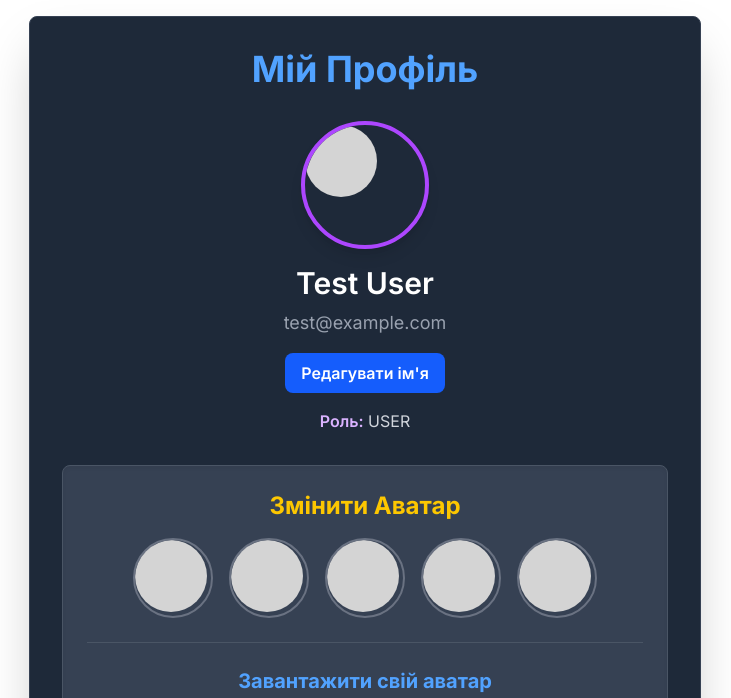
Test case: ProfilePage › handles name validation error (too short)
This screenshot has width=731, height=698.
Check: the heading "Test User" is shown, box x1=296 y1=265 x2=434 y2=301
Click the button "Редагувати ім'я" at (365, 373), box x1=285 y1=353 x2=445 y2=393
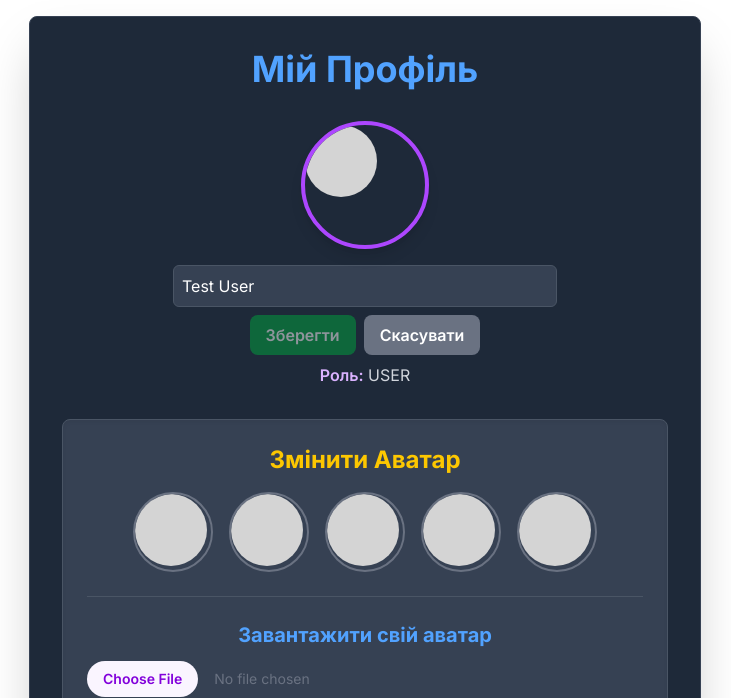
Replace the text in the field with placeholder "Введіть нове ім'я" with "ab" at (365, 286), box x1=173 y1=265 x2=557 y2=307
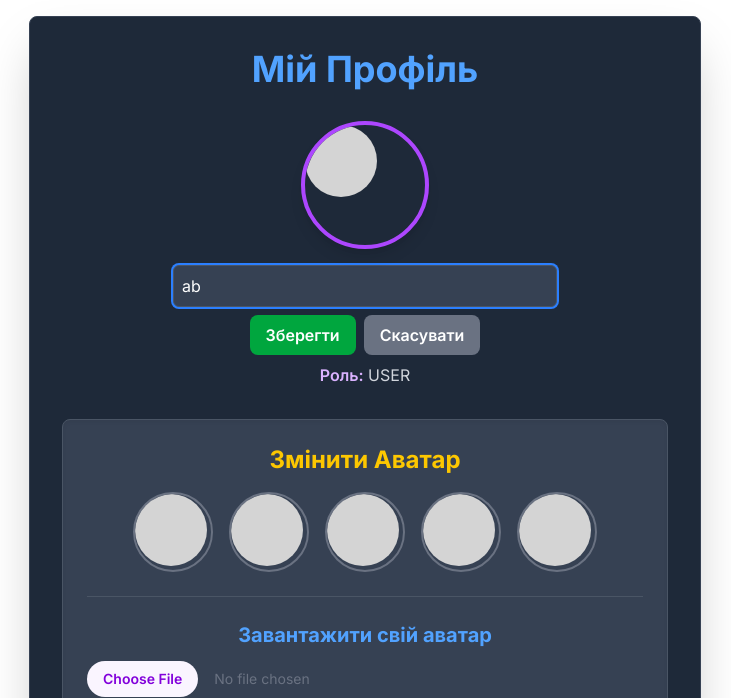
Click the button "Зберегти" at (303, 335), box x1=250 y1=315 x2=356 y2=355
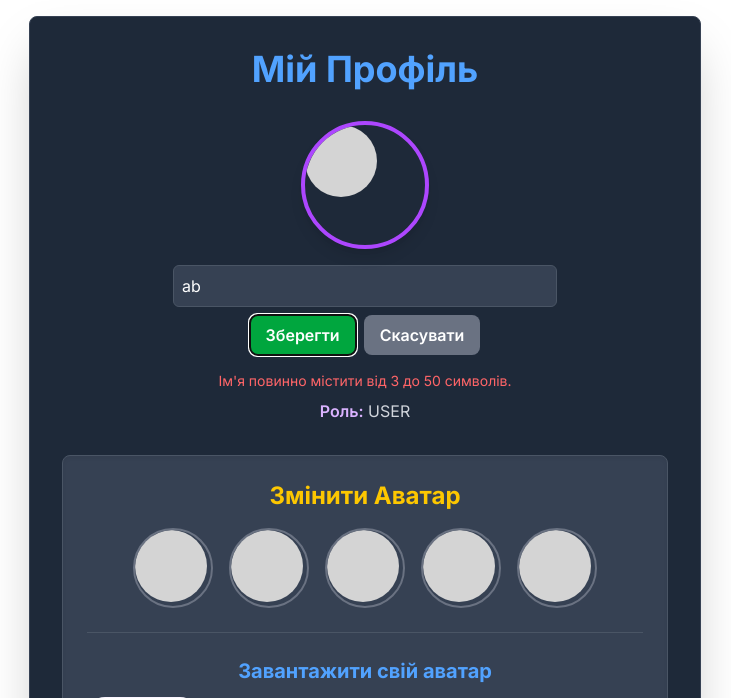
Check: the text "Ім'я повинно містити від 3 до 50 символів." is shown, box x1=218 y1=371 x2=512 y2=391
